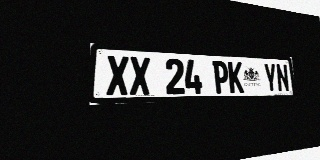2: (165, 58, 185, 94)
4: (184, 59, 202, 94)
K: (228, 61, 244, 93)
N: (275, 64, 290, 92)
P: (212, 61, 229, 93)
X: (106, 55, 129, 95), (129, 56, 151, 95)
Y: (263, 63, 278, 92)
